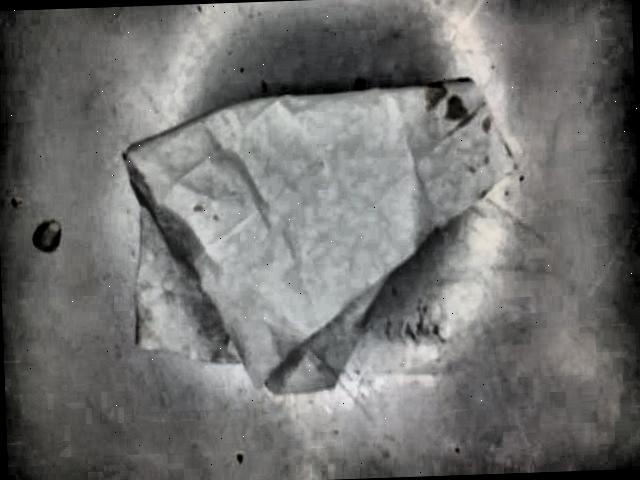Paper: (119, 76, 516, 399)
